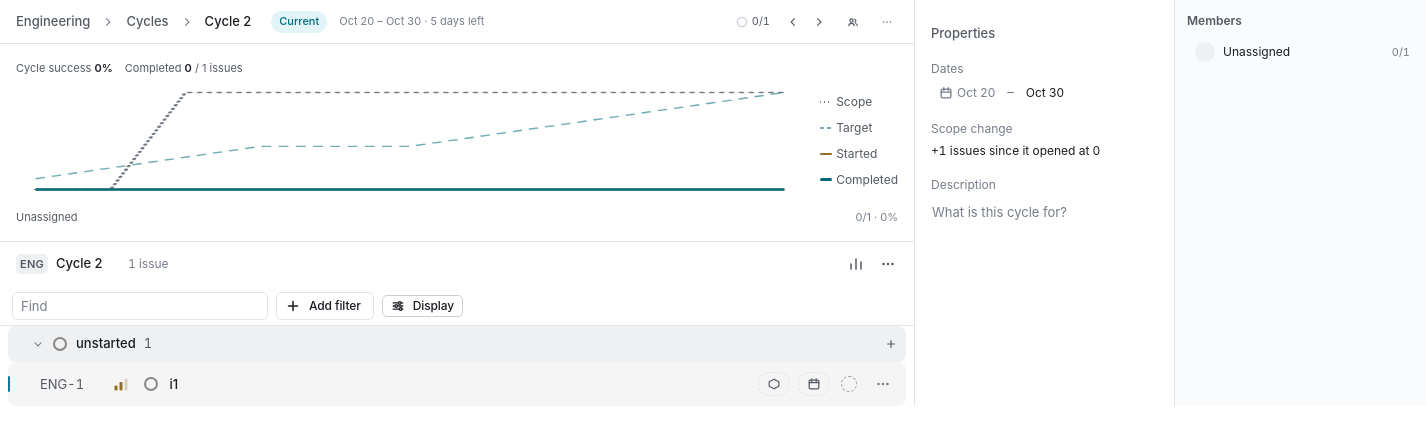
Scenario: CycleDetail header › steps to the cycle before and after this one
This screenshot has width=1426, height=431.
Click the button named "Previous cycle" at x=793, y=22, box [782,10,804,32]
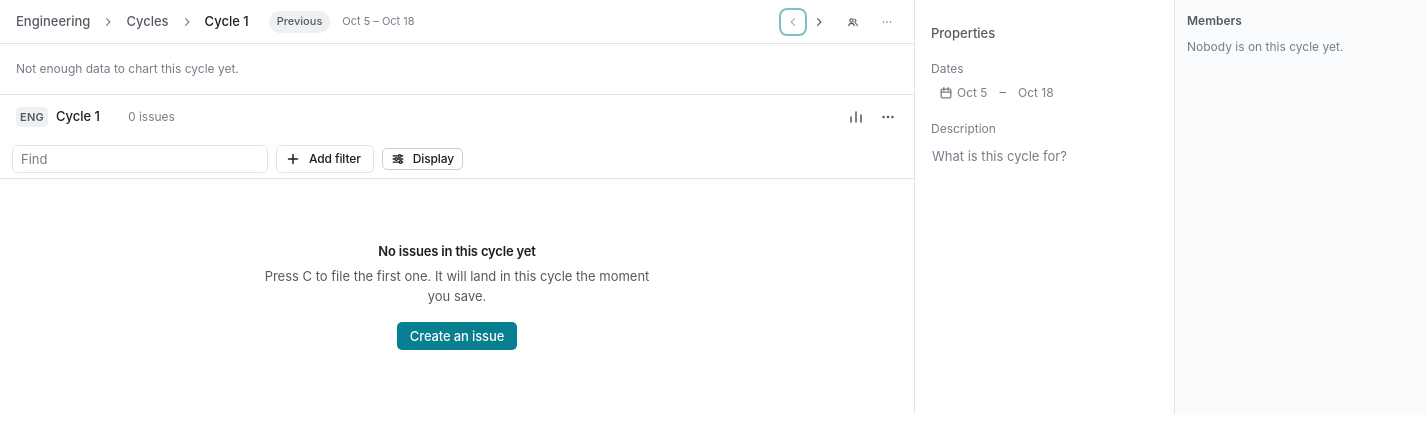
Now the header "Cycle" shows "Cycle 1", box [205,13,249,29]
